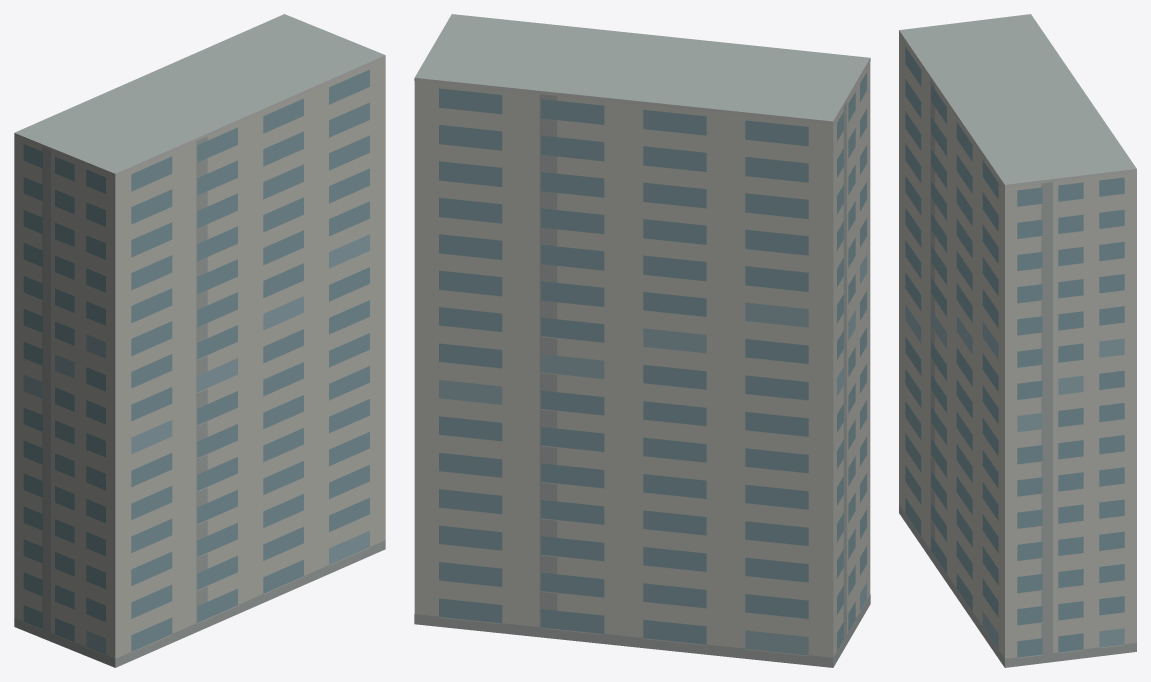
File: residential-2a2c7234-fa78-4a8d-8cb3-3fc6cfc2f8b5.glb
3 renders of one model, left to right at view 1: azimuth 30°, elevation 25°; view 2: azimuth 150°, elevation 25°; view 3: azimuth 270°, elevation 25°, orthographic. The views are drawn at different scales.
Parts seen in each view (by area): view 1: residential-2a2c7234-fa78-4a8d-8cb3-3fc6cfc2f8b5.tmp; view 2: residential-2a2c7234-fa78-4a8d-8cb3-3fc6cfc2f8b5.tmp; view 3: residential-2a2c7234-fa78-4a8d-8cb3-3fc6cfc2f8b5.tmp.
Part boxes in pixels (bbox=[...]): residential-2a2c7234-fa78-4a8d-8cb3-3fc6cfc2f8b5.tmp: bbox=[14, 14, 385, 667]; residential-2a2c7234-fa78-4a8d-8cb3-3fc6cfc2f8b5.tmp: bbox=[414, 14, 870, 667]; residential-2a2c7234-fa78-4a8d-8cb3-3fc6cfc2f8b5.tmp: bbox=[899, 14, 1136, 667].
Size of the model in its own units: 30.36 by 40 by 17.86.
